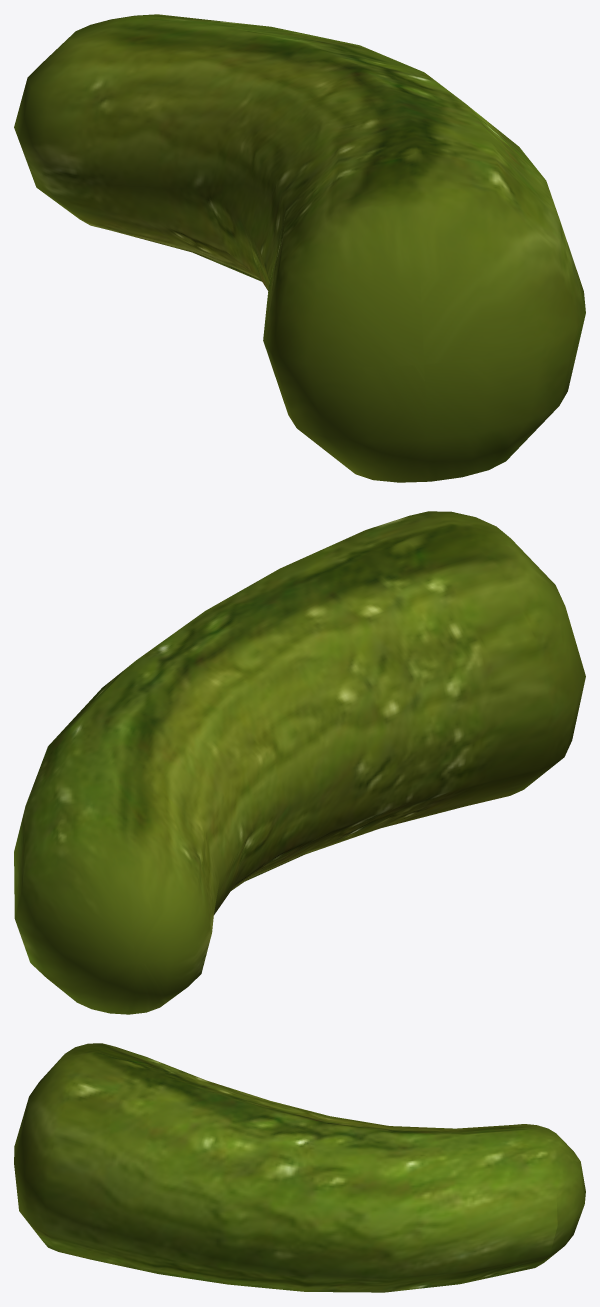
Rendered from pickles_1.glb.
3 renders of one model, top to bottom at view 1: azimuth 30°, elevation 25°; view 2: azimuth 150°, elevation 25°; view 3: azimuth 270°, elevation 25°, orthographic. The views are drawn at different scales.
Parts seen in each view (by area): view 1: pickle; view 2: pickle; view 3: pickle.
Boxes of the visible parts, <box> form: pickle: <box>14,14,585,482</box>; pickle: <box>14,511,585,1014</box>; pickle: <box>14,1043,585,1292</box>.
Size of the model in its own units: 0.4695 by 0.3573 by 0.9473.
1 material, 1 textured.
